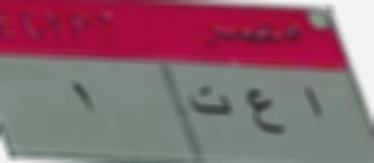1: (62, 72, 104, 119)
ain: (242, 86, 287, 142)
alif: (292, 86, 336, 126)
taa: (181, 85, 235, 123)
